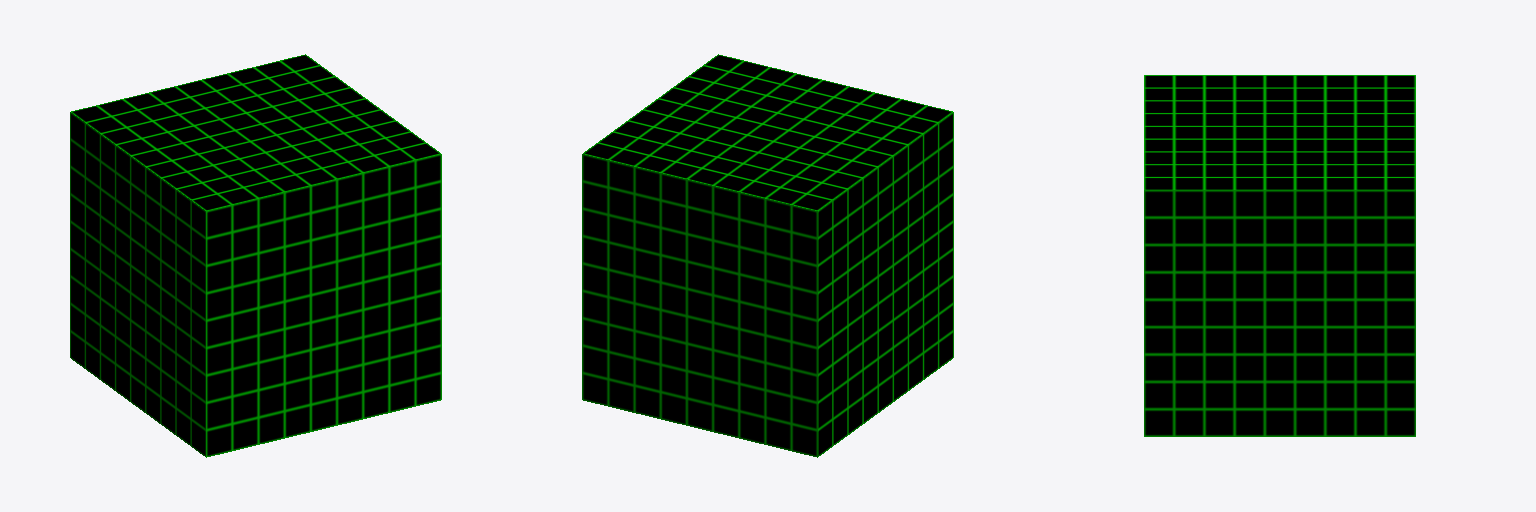
3 renders of one model, left to right at view 1: azimuth 30°, elevation 25°; view 2: azimuth 150°, elevation 25°; view 3: azimuth 270°, elevation 25°, orthographic.
Visible parts, largest first — view 1: Cube; view 2: Cube; view 3: Cube.
Boxes of the visible parts, <box> form: Cube: <box>70,54,441,457</box>; Cube: <box>582,54,953,457</box>; Cube: <box>1144,75,1415,436</box>.
Size of the model in its own units: 2 by 2 by 2.
1 materials, 1 textured.